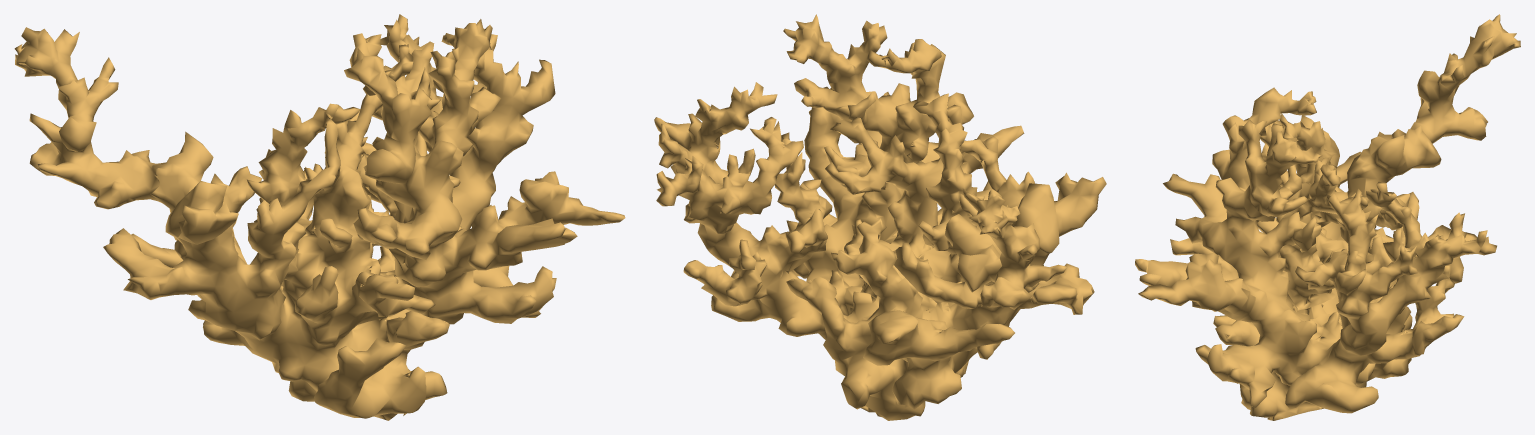
Rendered from Coral.glb.
The picture shows the model from 3 angles, left to right: view 1: azimuth 30°, elevation 25°; view 2: azimuth 150°, elevation 25°; view 3: azimuth 270°, elevation 25°; orthographic projection. The views are drawn at different scales.
Parts seen in each view (by area): view 1: Model; view 2: Model; view 3: Model.
Part boxes in pixels (bbox=[...]): Model: bbox=[14, 14, 625, 420]; Model: bbox=[654, 14, 1106, 420]; Model: bbox=[1135, 14, 1520, 420].
Size of the model in its own units: 10.62 by 8 by 8.64.
